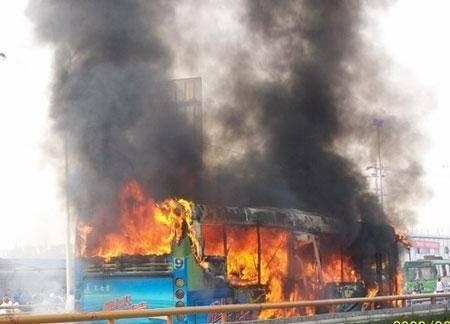fire: (216, 225, 378, 318), (76, 183, 196, 259)
